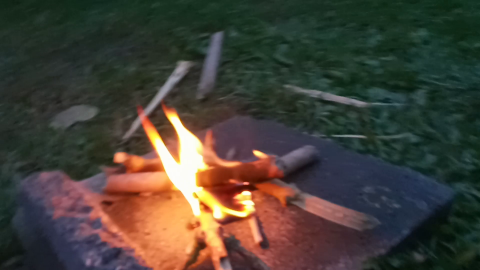fire: (132, 96, 219, 211)
